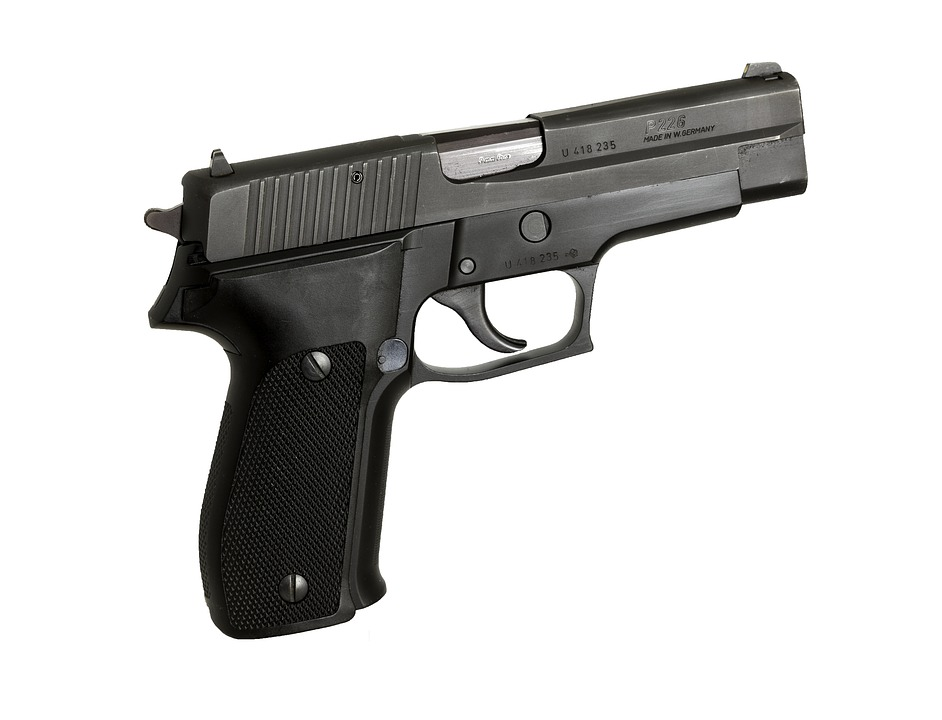gun: (137, 54, 815, 647)
